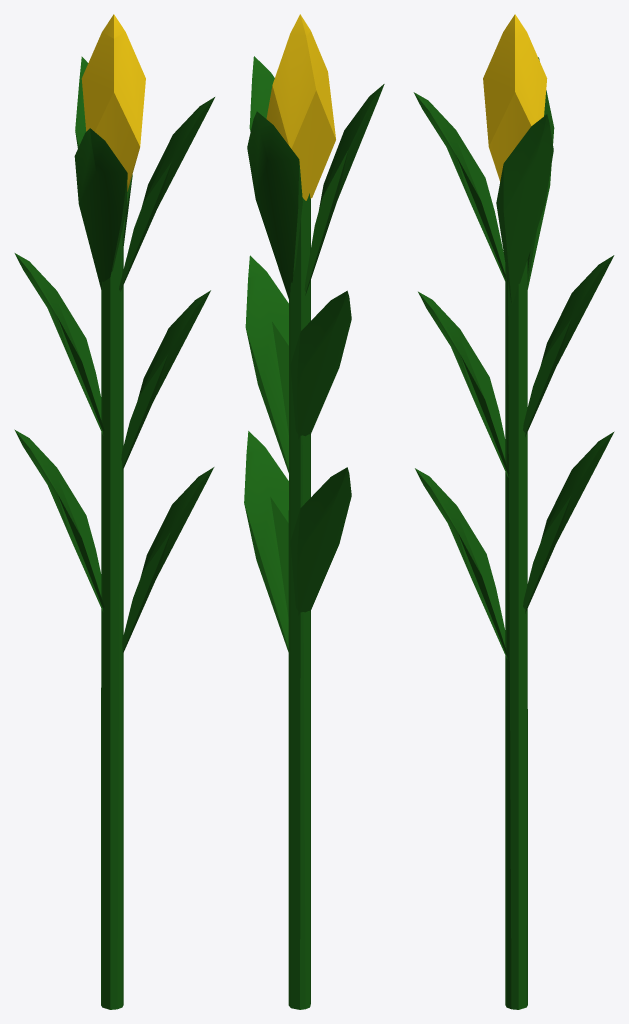
The model's file is corn.obj.
3 views of the same model, side by side, from view 1: azimuth 90°, elevation 25°; view 2: azimuth 210°, elevation 25°; view 3: azimuth 270°, elevation 25° (orthographic).
Visible parts, largest first — view 1: Cylinder.001, Cube.002, Cube, Cube.003, Cube.004, Cube.005, Cube.001; view 2: Cylinder.001, Cube.002, Cube, Cube.005, Cube.001, Cube.003, Cube.004; view 3: Cylinder.001, Cube.002, Cube, Cube.005, Cube.001, Cube.003, Cube.004.
Part boxes in pixels (x1,y1,x2,y2): Cylinder.001: [101, 225, 123, 1009]; Cube.002: [74, 56, 214, 291]; Cube: [81, 14, 145, 191]; Cube.003: [14, 253, 104, 435]; Cube.004: [14, 429, 104, 611]; Cube.005: [122, 467, 214, 653]; Cube.001: [121, 290, 210, 470]; Cylinder.001: [288, 193, 310, 1009]; Cube.002: [247, 56, 384, 300]; Cube: [266, 14, 335, 200]; Cube.005: [244, 431, 288, 651]; Cube.001: [245, 255, 288, 472]; Cube.003: [290, 290, 351, 438]; Cube.004: [290, 467, 351, 615]; Cylinder.001: [505, 260, 527, 1009]; Cube.002: [413, 57, 554, 304]; Cube: [483, 14, 547, 181]; Cube.005: [415, 468, 507, 658]; Cube.001: [418, 291, 509, 477]; Cube.003: [523, 255, 614, 436]; Cube.004: [523, 431, 614, 613].
Bounding box in the file's own units: 0.6857 × 4.91 × 0.9035.
